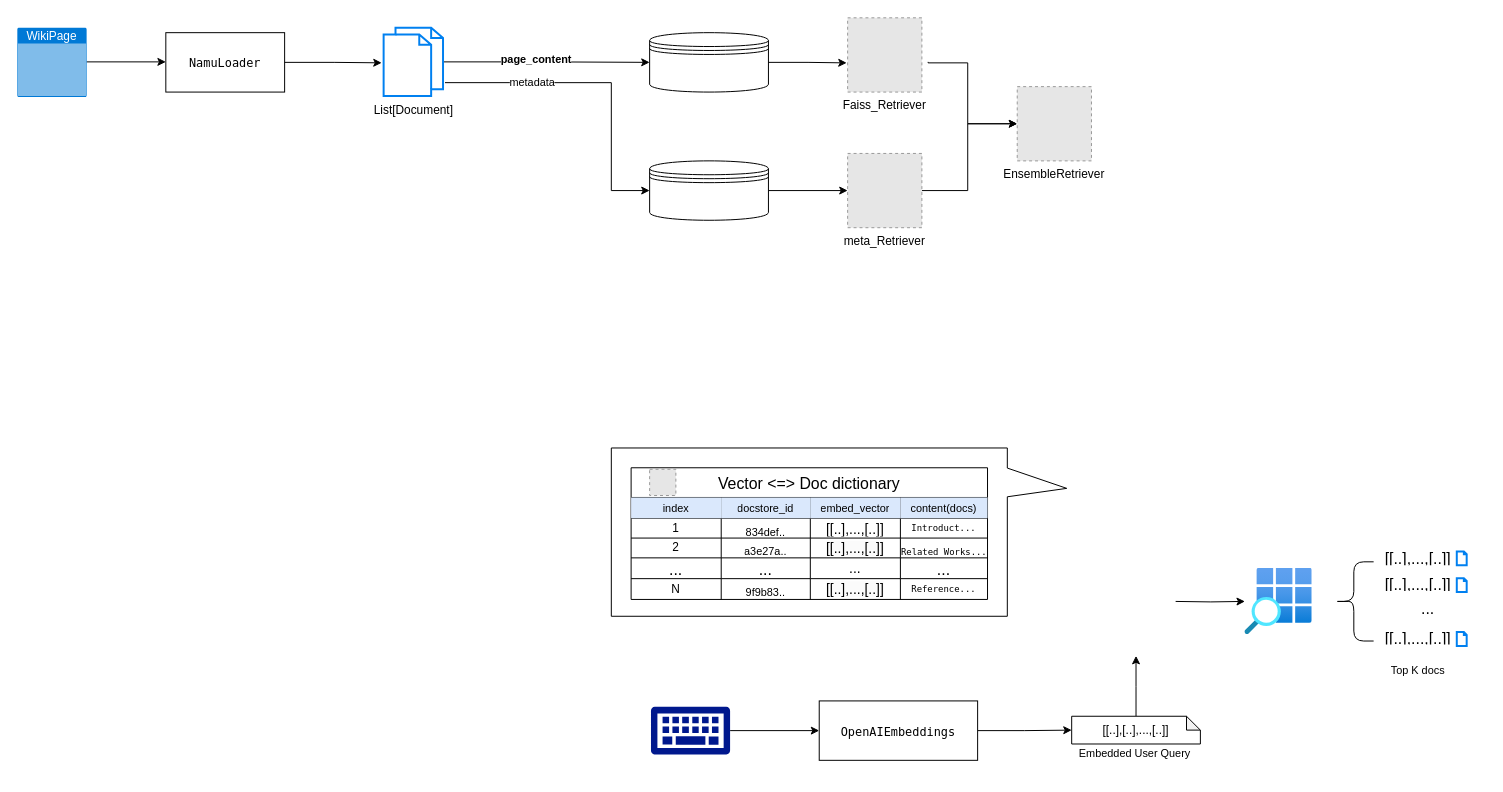
Image size: 1503x792. Some labels were removed from this diagram. Grey dashed boxes stand in for pictures. Each missing label, with the centre of its shape:
"Faiss_v ectorStore" belongs at (708,62).
"meta_v ectorStore" belongs at (708,190).
"Similarity Search" belongs at (1278,601).
"User Input Query" belongs at (690,730).
